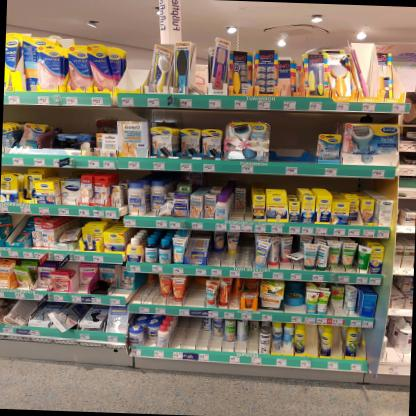empty_space: (273, 122, 316, 166), (113, 63, 150, 96), (174, 321, 198, 351), (245, 191, 251, 222)
